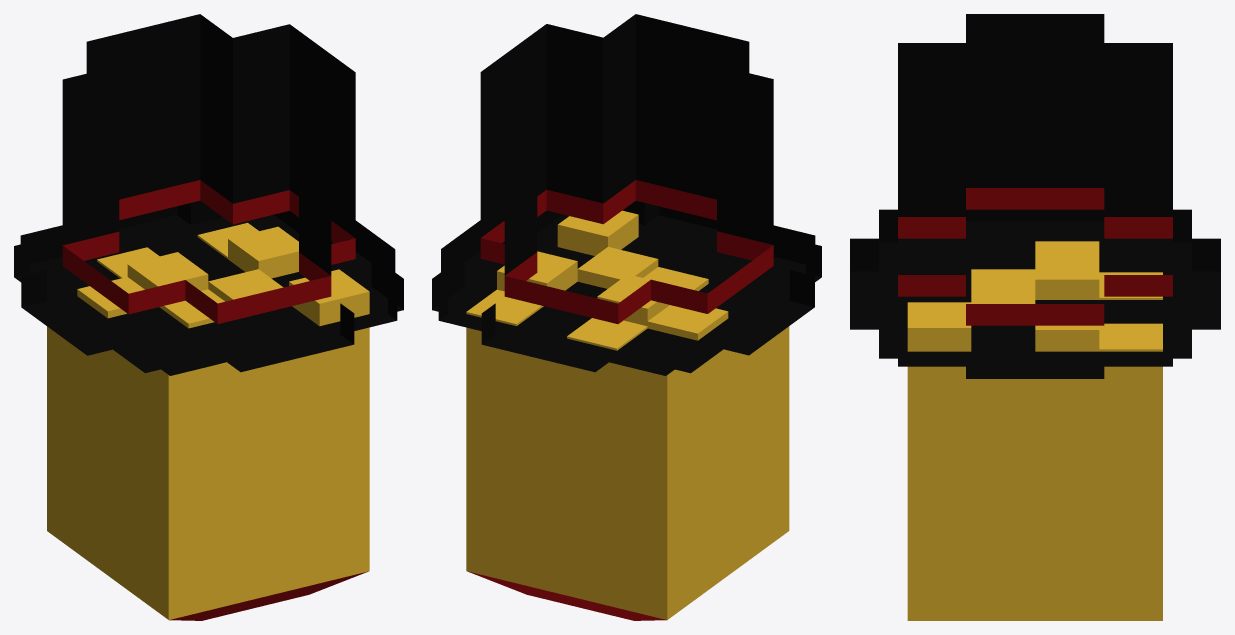
The model's file is fbx_head_tux.fbx.
The picture shows the model from 3 angles, left to right: view 1: azimuth 30°, elevation 25°; view 2: azimuth 150°, elevation 25°; view 3: azimuth 270°, elevation 25°; orthographic projection. The views are drawn at different scales.
Parts seen in each view (by area): view 1: sm_head_tux; view 2: sm_head_tux; view 3: sm_head_tux.
Boxes of the visible parts, x1=… form: sm_head_tux: x1=14, y1=14, x2=403, y2=620; sm_head_tux: x1=432, y1=14, x2=821, y2=620; sm_head_tux: x1=850, y1=14, x2=1220, y2=620.
Size of the model in its own units: 40.7 by 62.79 by 40.49.
